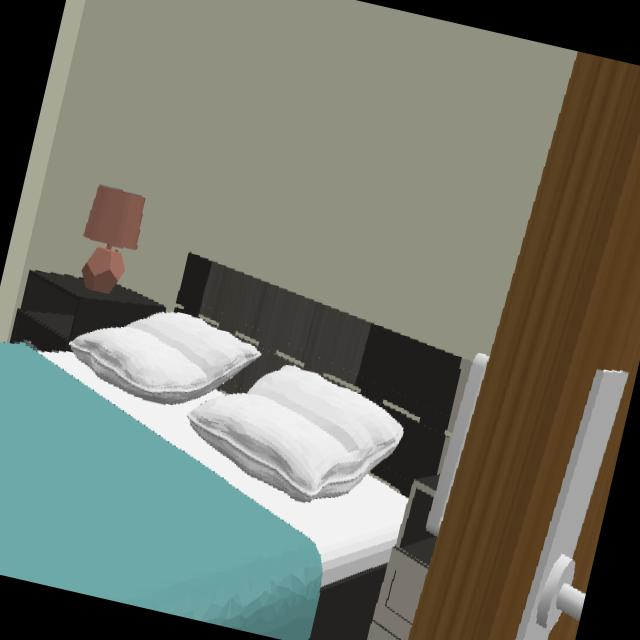bed: (0, 253, 459, 640)
lamp: (81, 186, 145, 294)
nighttable: (10, 270, 165, 351)
pillow: (188, 366, 402, 501), (70, 312, 259, 402)
